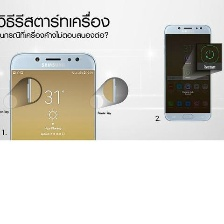phone: (6, 48, 100, 197), (159, 19, 214, 123)
